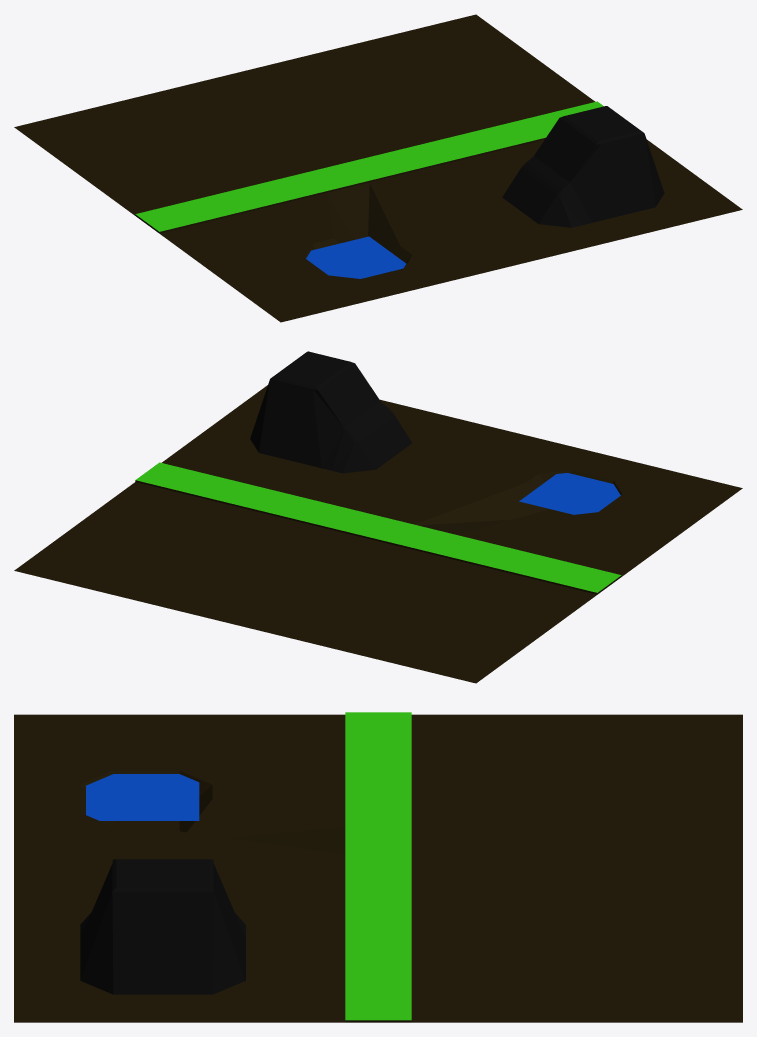
Rendered from ステージ1(仮)3.obj.
3 renders of one model, top to bottom at view 1: azimuth 30°, elevation 25°; view 2: azimuth 150°, elevation 25°; view 3: azimuth 270°, elevation 25°, orthographic. The views are drawn at different scales.
Visible parts, largest first — view 1: Plane, Plane.001; view 2: Plane, Plane.001; view 3: Plane, Plane.001.
Part boxes in pixels (x1=…): Plane: x1=14, y1=14, x2=742, y2=322; Plane.001: x1=306, y1=236, x2=406, y2=278; Plane: x1=14, y1=351, x2=742, y2=683; Plane.001: x1=519, y1=473, x2=620, y2=514; Plane: x1=14, y1=712, x2=742, y2=1022; Plane.001: x1=86, y1=774, x2=199, y2=820.
Size of the model in its own units: 398 by 73.01 by 398.
